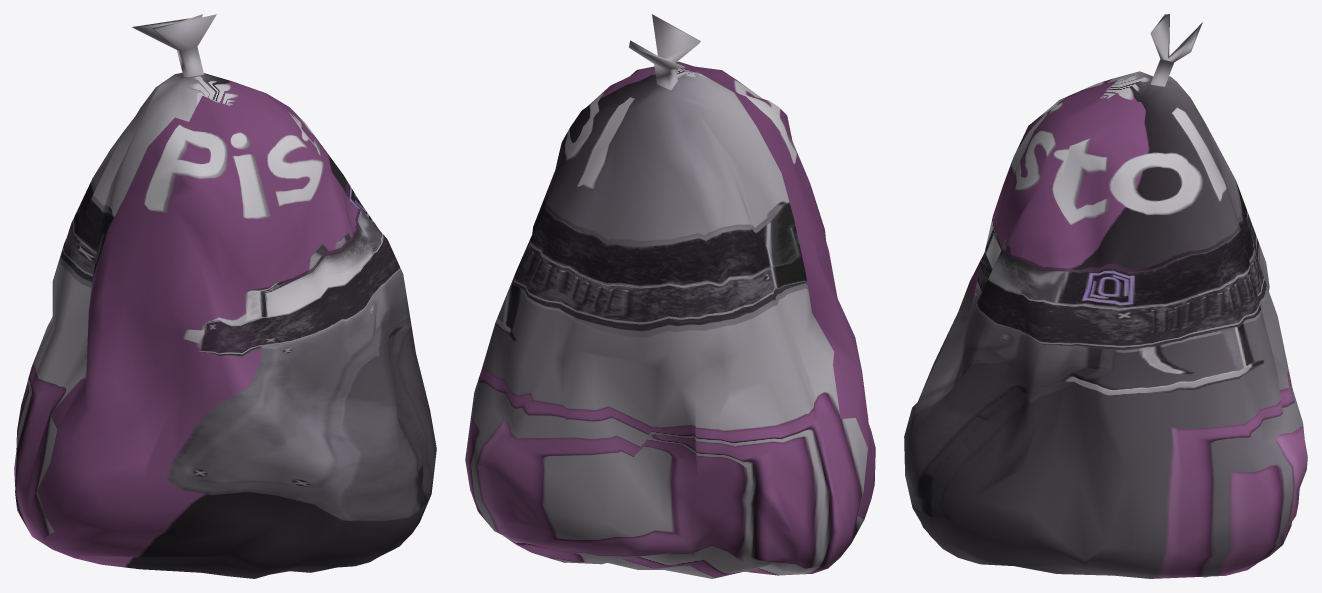
The model's file is SM_TrashBag1.fbx.
The picture shows the model from 3 angles, left to right: view 1: azimuth 30°, elevation 25°; view 2: azimuth 150°, elevation 25°; view 3: azimuth 270°, elevation 25°; orthographic projection. The views are drawn at different scales.
Visible parts, largest first — view 1: Trash Bag LOW; view 2: Trash Bag LOW; view 3: Trash Bag LOW.
Boxes of the visible parts, x1,y1,x2,y2 form: Trash Bag LOW: [14, 14, 436, 578]; Trash Bag LOW: [465, 14, 875, 578]; Trash Bag LOW: [904, 14, 1307, 578].
Size of the model in its own units: 33.67 by 35.43 by 50.05.
